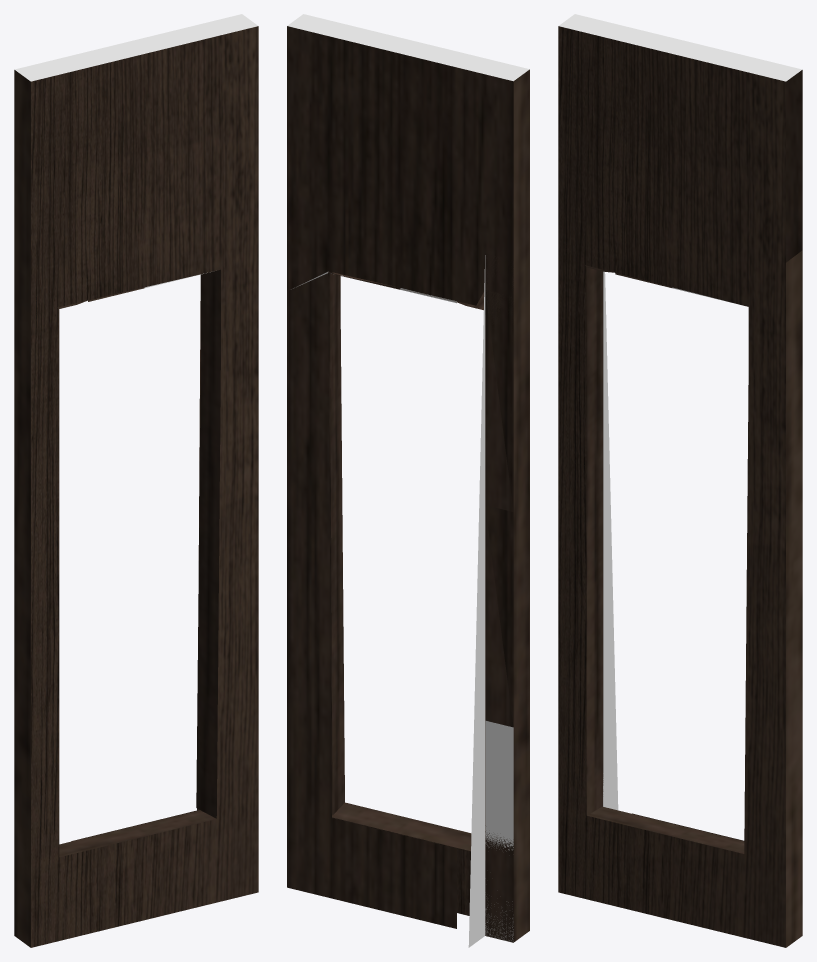
Rendered from ColumFrontS3.obj.
The picture shows the model from 3 angles, left to right: view 1: azimuth 30°, elevation 25°; view 2: azimuth 150°, elevation 25°; view 3: azimuth 330°, elevation 25°; orthographic projection.
Visible parts, largest first — view 1: ColumFrontS3; view 2: ColumFrontS3; view 3: ColumFrontS3.
Boxes of the visible parts, x1,y1,x2,y2 form: ColumFrontS3: (14, 14, 258, 947); ColumFrontS3: (287, 14, 529, 947); ColumFrontS3: (558, 14, 802, 947).
Size of the model in its own units: 3.95 by 14.36 by 0.9936.
2 materials, 2 textured.
